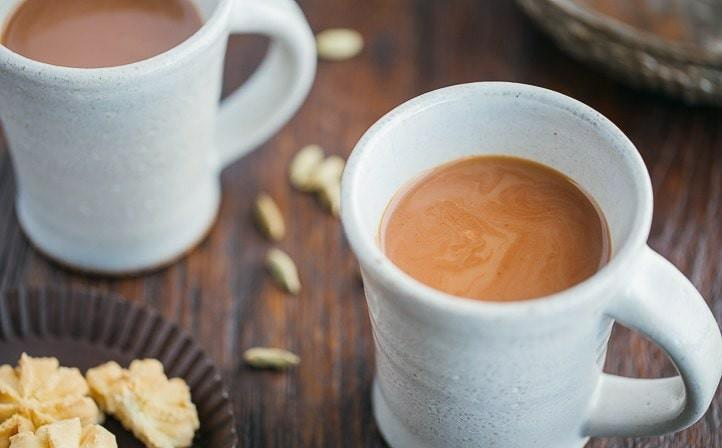Chai: (380, 153, 613, 306), (0, 0, 206, 67)
